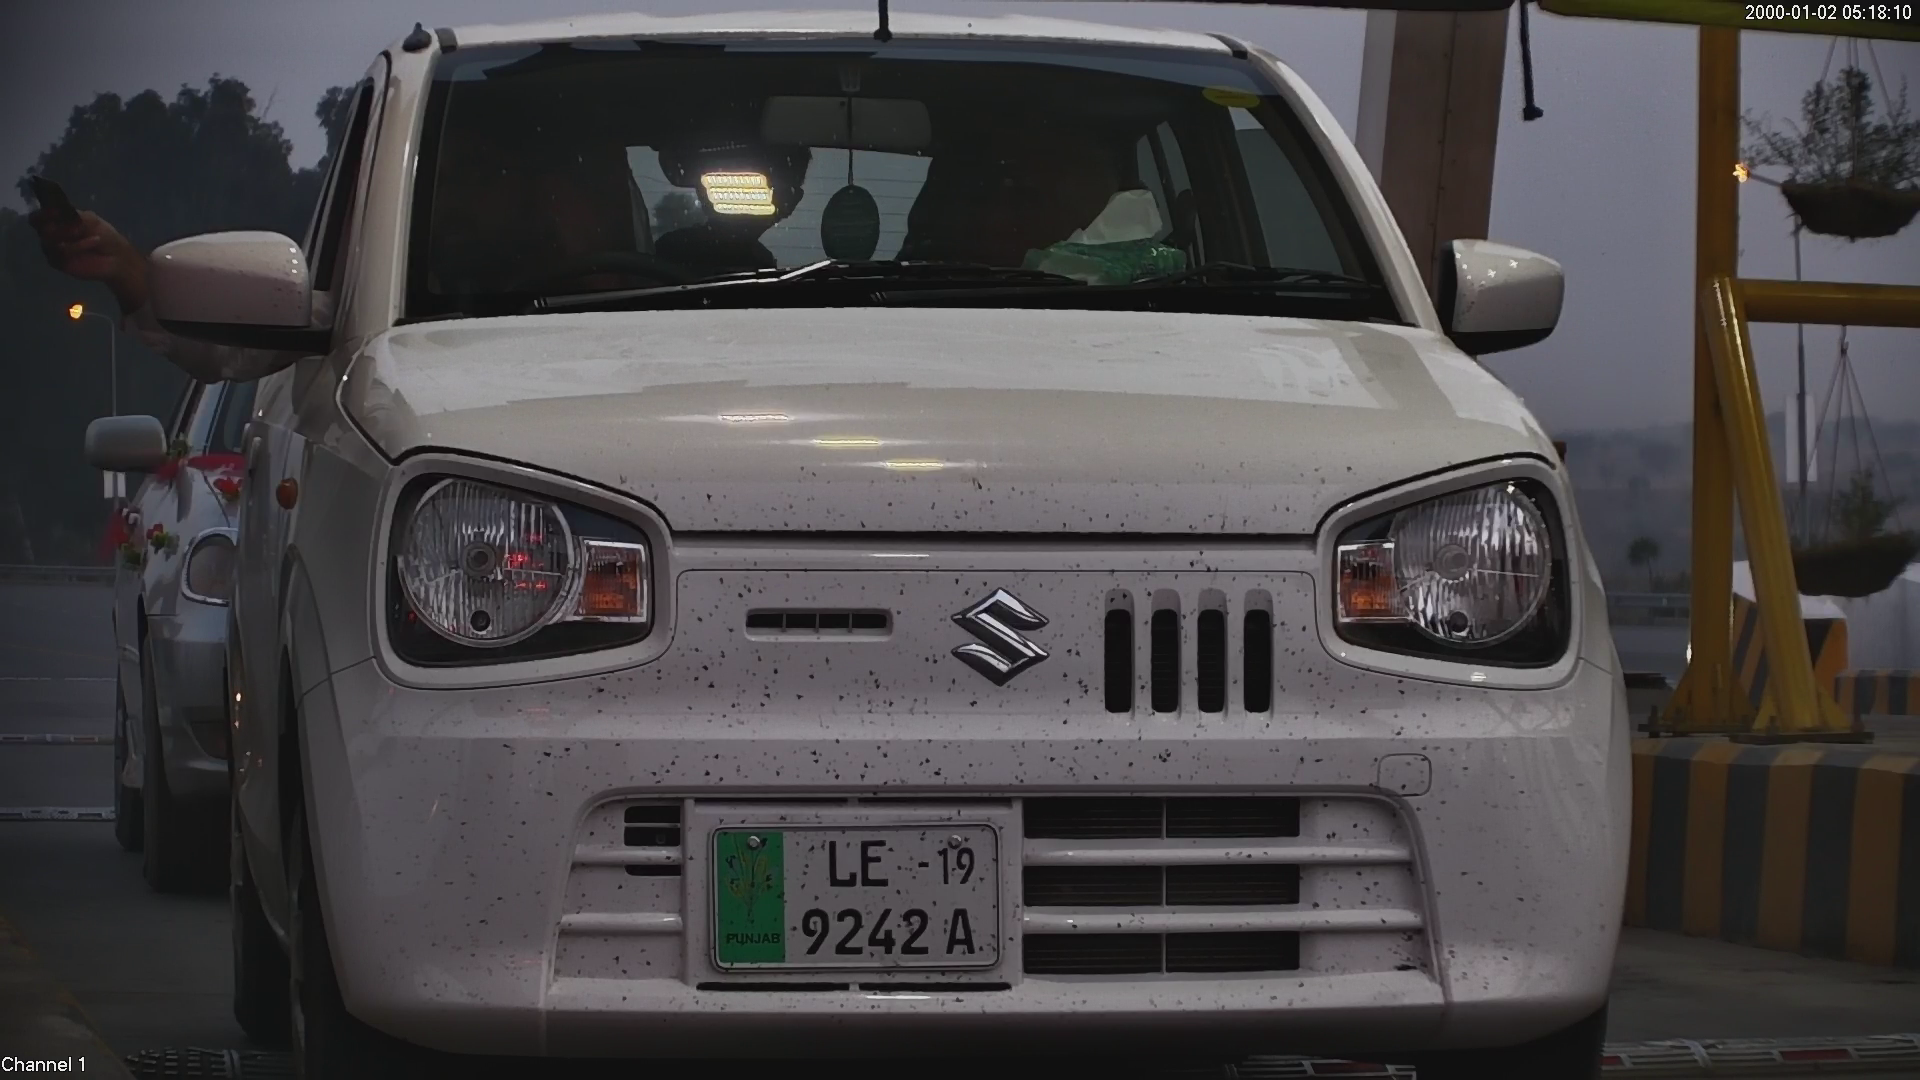Number_Plate: (691, 811, 1015, 990)
